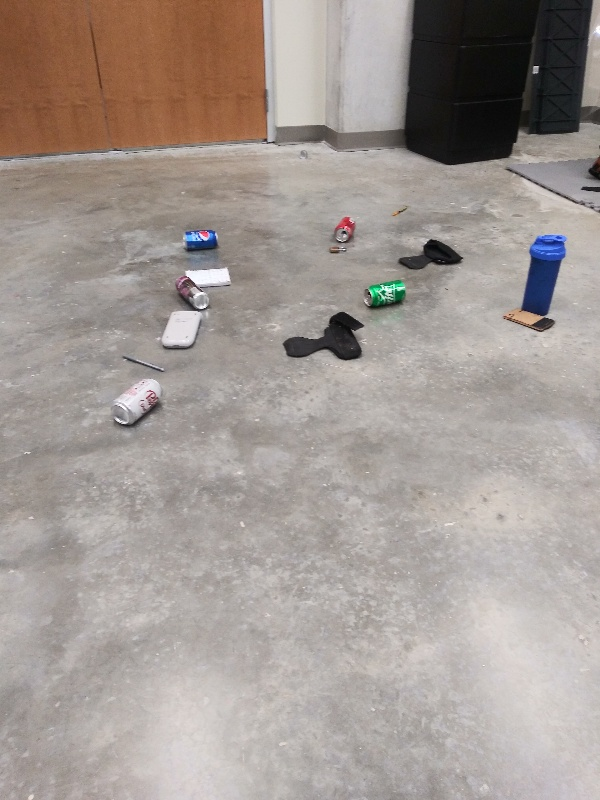can: (107, 376, 169, 429), (360, 278, 413, 315), (168, 273, 214, 315), (177, 221, 223, 255), (330, 214, 360, 245)
